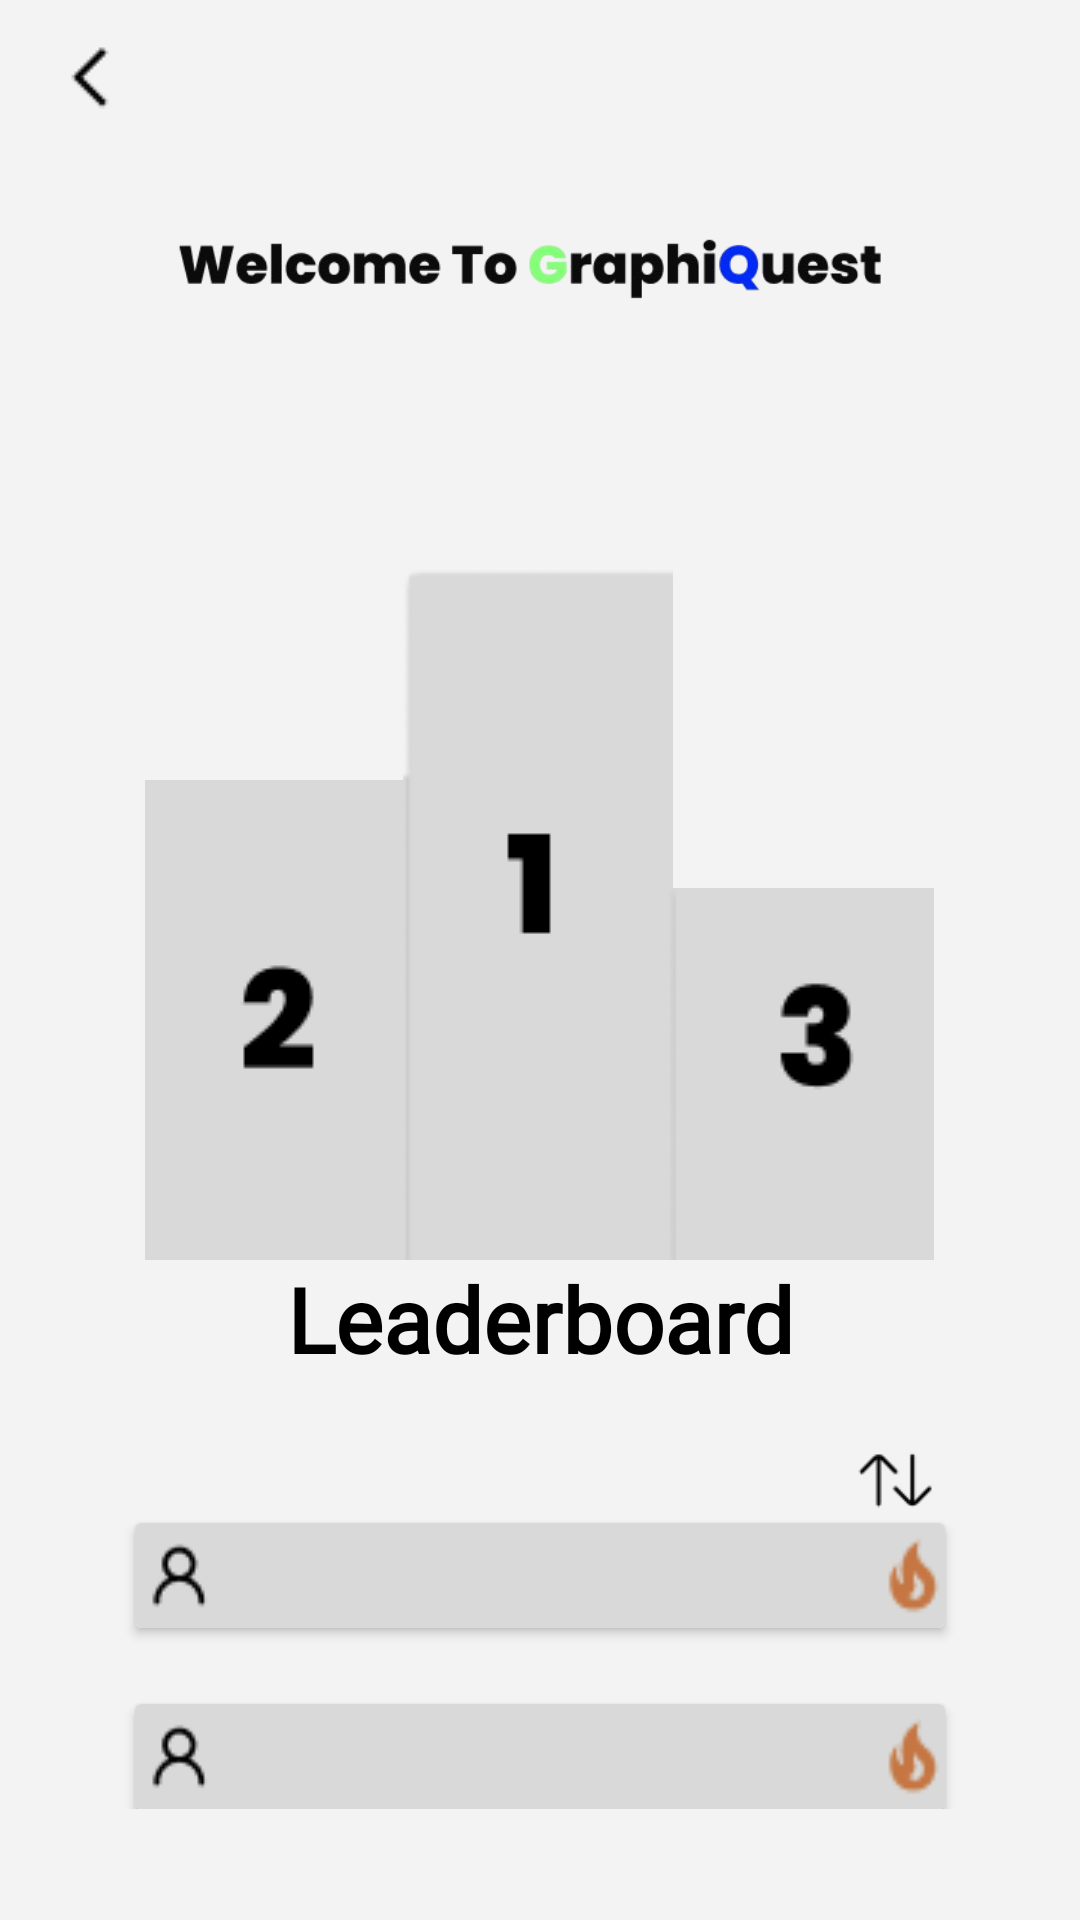

Named icons in this screenshot (1080*1920) and their centers, (x,y):
arrow left: (89,77)
person: (178,1575), (178,1756)
showmorelb: (895,1481)
streak: (913,1576), (913,1757)
